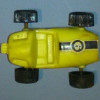carro: (3, 10, 99, 84)
